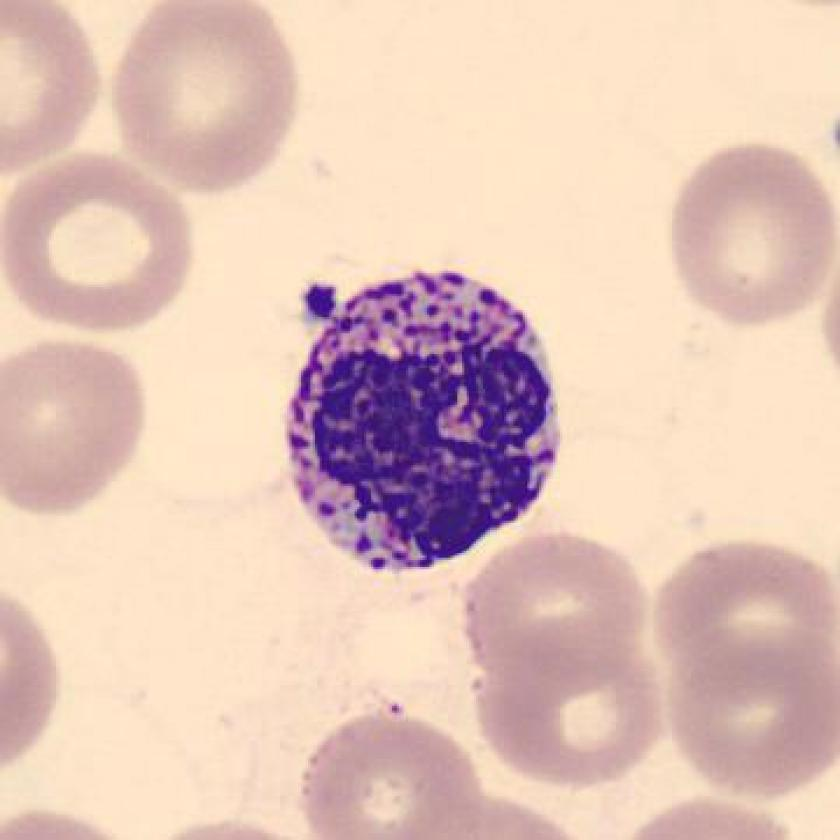basophil: (272, 244, 573, 584)
